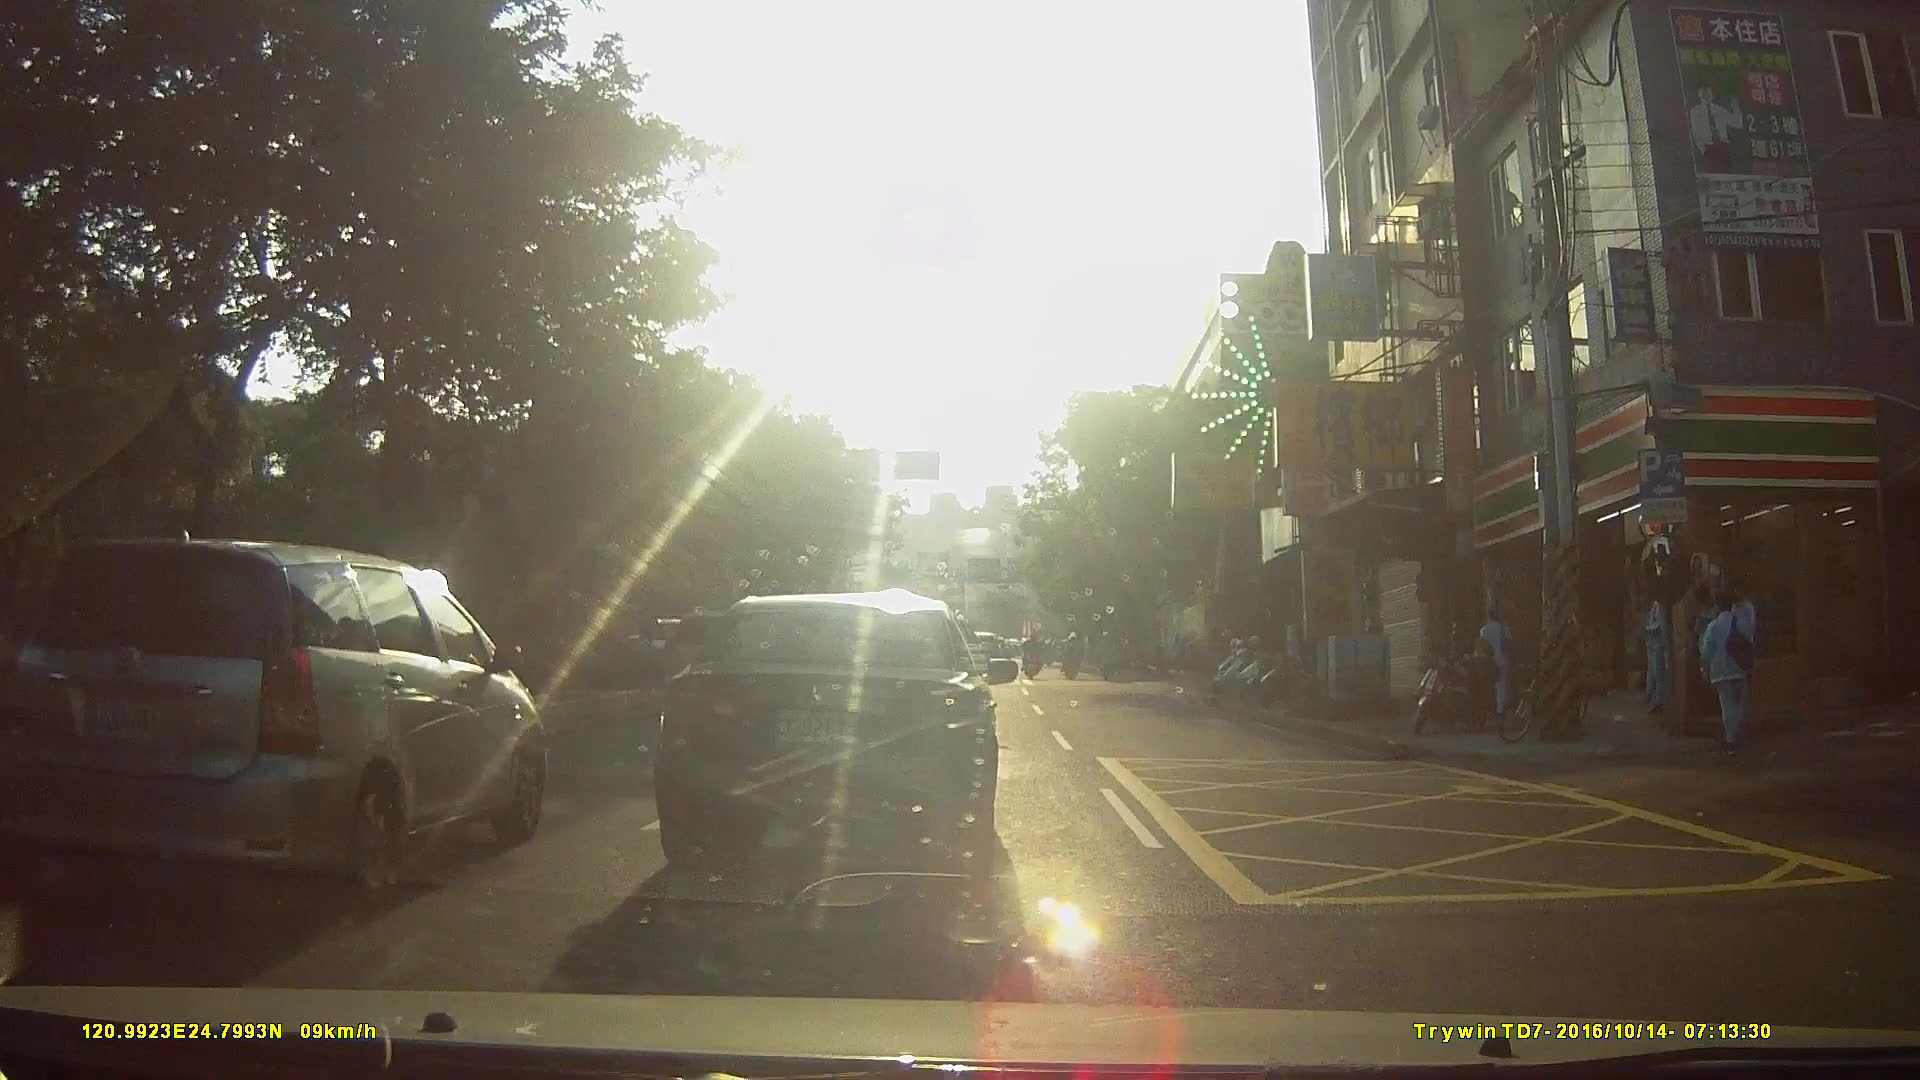pedestrian: (1704, 594, 1764, 759), (1475, 608, 1524, 716), (1696, 574, 1732, 712), (1630, 585, 1666, 716)
rider: (1062, 626, 1089, 686), (1096, 627, 1120, 687), (1022, 632, 1048, 681)
vehicle: (13, 544, 568, 892), (607, 577, 1030, 875)
